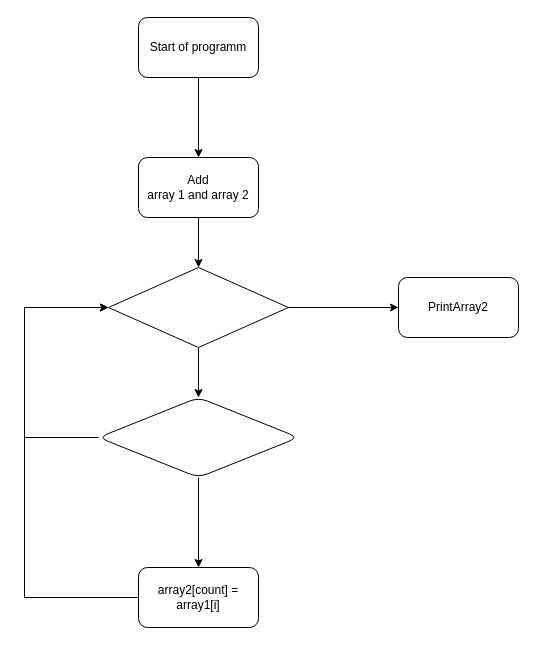
Some shapes in this 536 by 645 pixel diagram are drawn without their labels. Here are the shapes that lost their labels. From the top down, the centre of each, then its label:
At [198,307]: "i < array1.length".
At [198,437]: "Если array1[i].Lenght <= 3".
